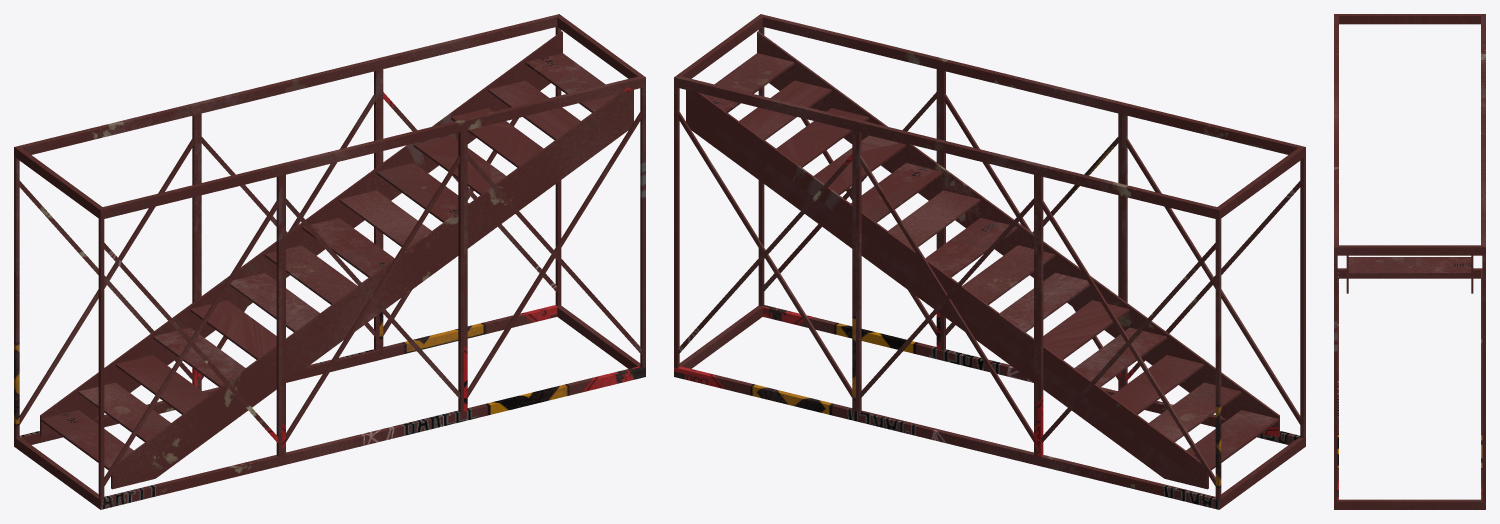
The model's file is CS_scaffolding_04.FBX.
3 renders of one model, left to right at view 1: azimuth 30°, elevation 25°; view 2: azimuth 150°, elevation 25°; view 3: azimuth 270°, elevation 25°, orthographic. The views are drawn at different scales.
Parts seen in each view (by area): view 1: SM_scaffolding_04; view 2: SM_scaffolding_04; view 3: SM_scaffolding_04.
Part boxes in pixels (box(x1,y1,x2,y2)): SM_scaffolding_04: box(14, 14, 645, 509); SM_scaffolding_04: box(674, 14, 1305, 509); SM_scaffolding_04: box(1334, 14, 1485, 509).
Size of the model in its own units: 600 by 165 by 315.
